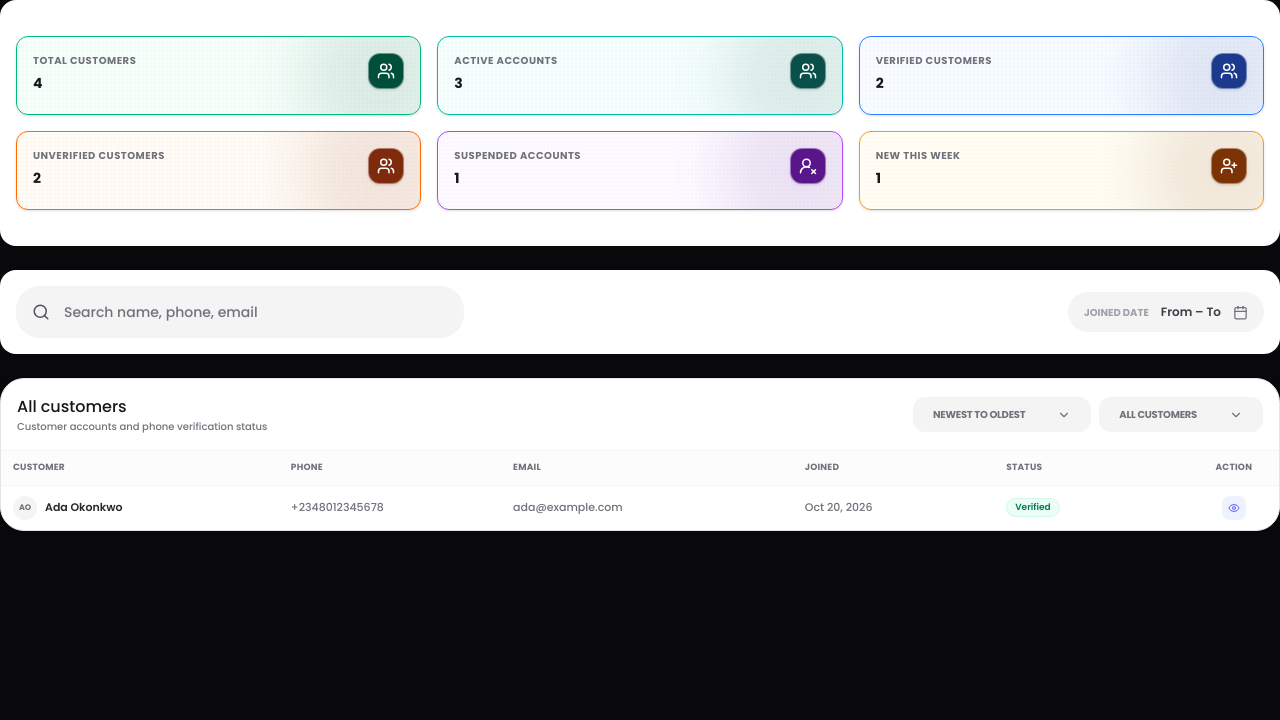
Test: Super Admin customers › shows an overview error and retry without replacing metrics with zeroes
Expected: the text "Ada Okonkwo" is shown, left=45, top=499, right=122, bottom=516
Click the button named "View Ada Okonkwo" at [1234, 508], box left=1222, top=496, right=1246, bottom=520
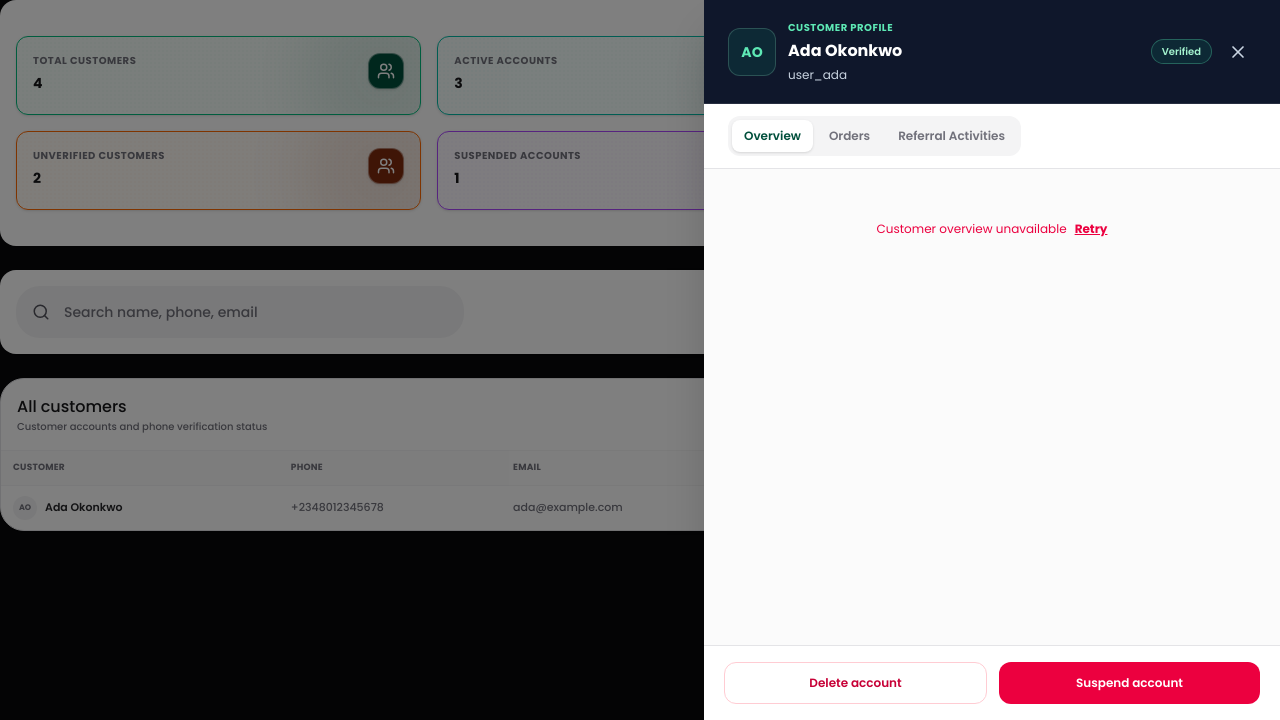
Expected: the message shows "Customer overview unavailable", left=876, top=220, right=1067, bottom=237
Click the button "Retry" at [1091, 229], box left=1075, top=221, right=1107, bottom=237
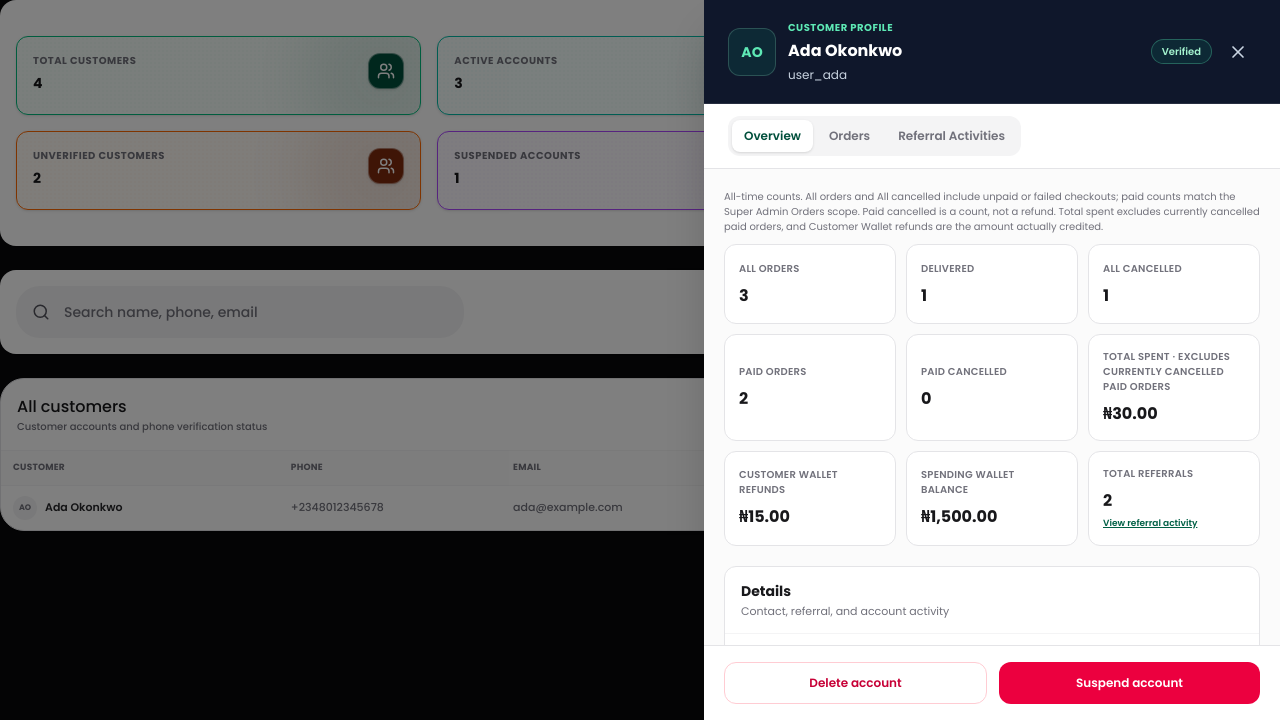
Expected: the text "Paid orders" is shown, left=739, top=364, right=807, bottom=379
